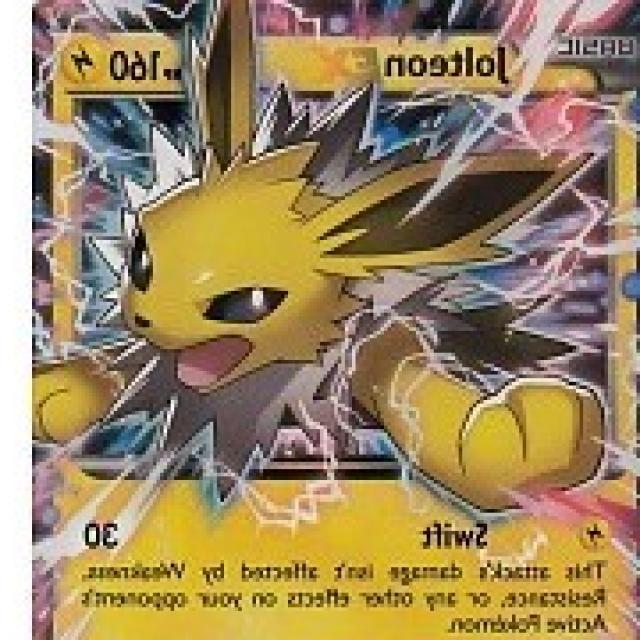Jolteon: (76, 92, 519, 476)
